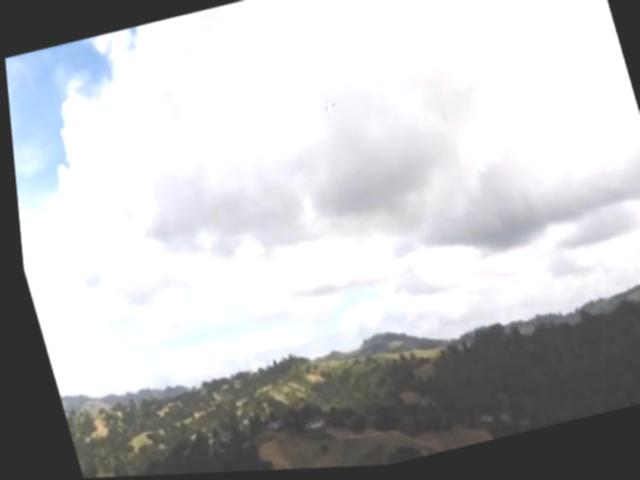iha: (317, 99, 337, 117)
